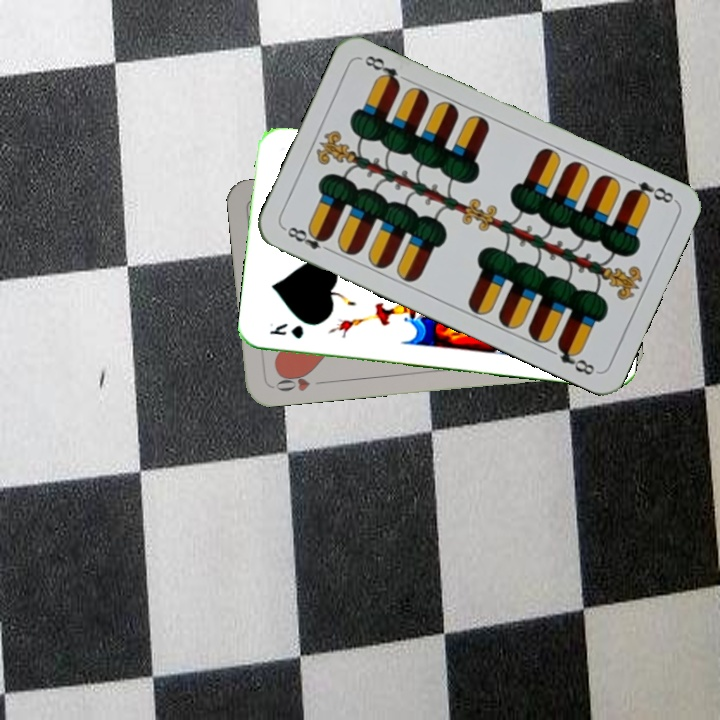E8: (280, 222, 336, 256), (623, 177, 678, 206)
GK: (266, 319, 306, 341)
HO: (272, 367, 328, 394)
